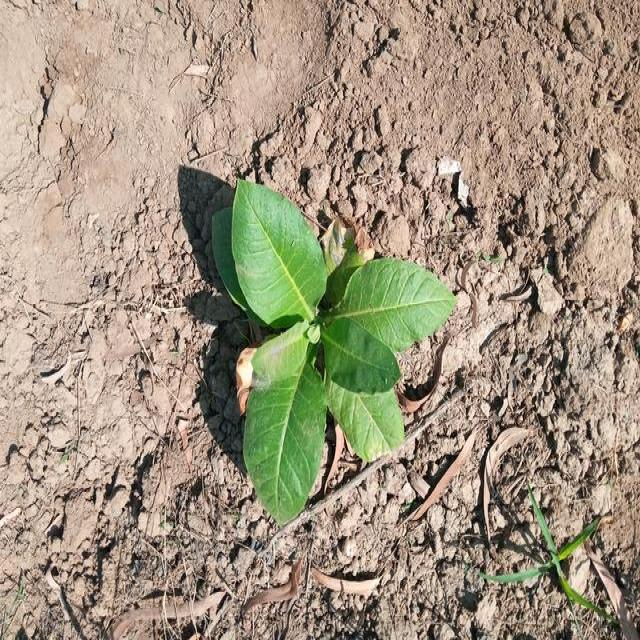crop: (209, 173, 459, 534)
